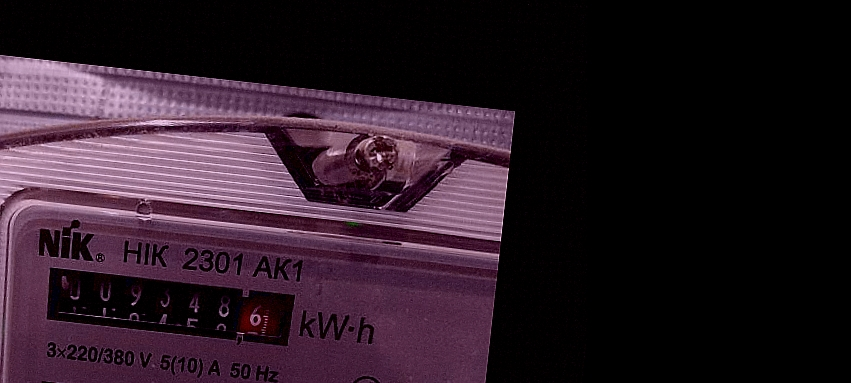0: (65, 275, 84, 302), (96, 275, 113, 303)
3: (157, 283, 174, 309)
4: (184, 284, 205, 315)
6: (245, 299, 265, 329)
8: (215, 290, 233, 320)
9: (127, 281, 144, 310)
screen: (25, 251, 310, 359)
